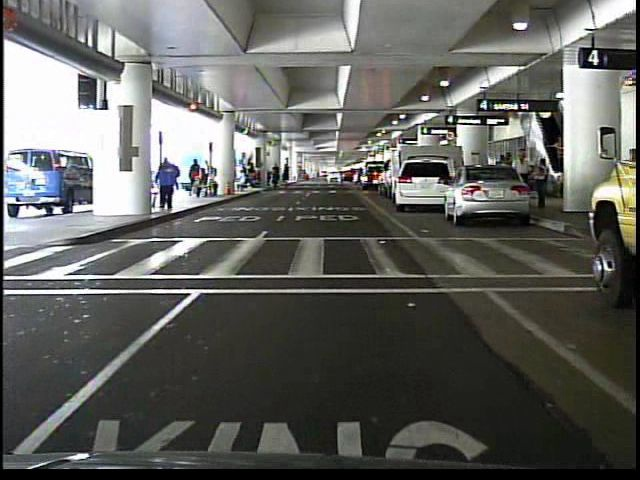person: (153, 153, 181, 210)
